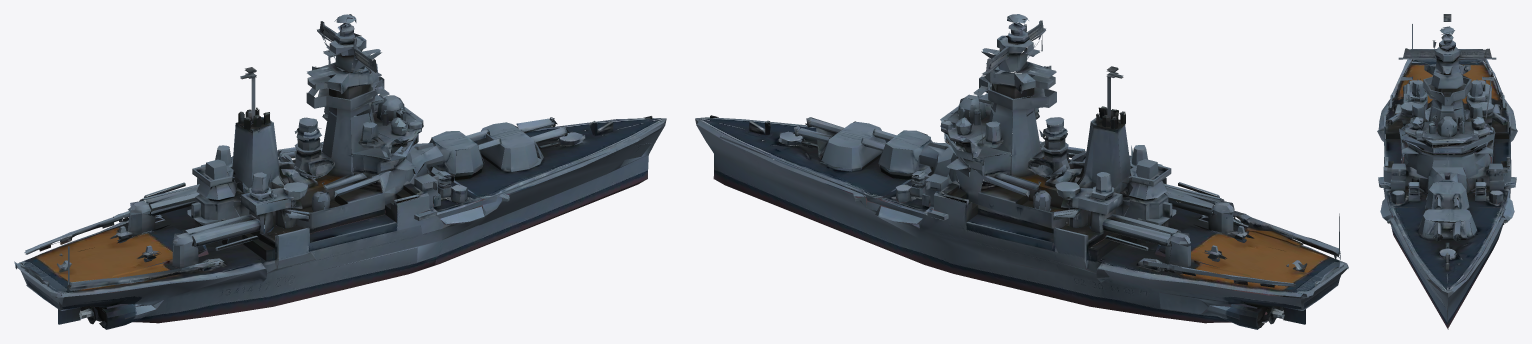
File: leviathan_LOD1.glb
3 views of the same model, side by side, from view 1: azimuth 30°, elevation 25°; view 2: azimuth 150°, elevation 25°; view 3: azimuth 270°, elevation 25° (orthographic). The views are drawn at different scales.
Parts seen in each view (by area): view 1: leviathan_LOD1; view 2: leviathan_LOD1; view 3: leviathan_LOD1.
Boxes of the visible parts, bbox=[...] form: leviathan_LOD1: bbox=[14, 14, 666, 329]; leviathan_LOD1: bbox=[695, 14, 1348, 329]; leviathan_LOD1: bbox=[1377, 14, 1517, 329].
Size of the model in its own units: 0.9938 by 0.3606 by 0.2432.
1 material, 1 textured.
